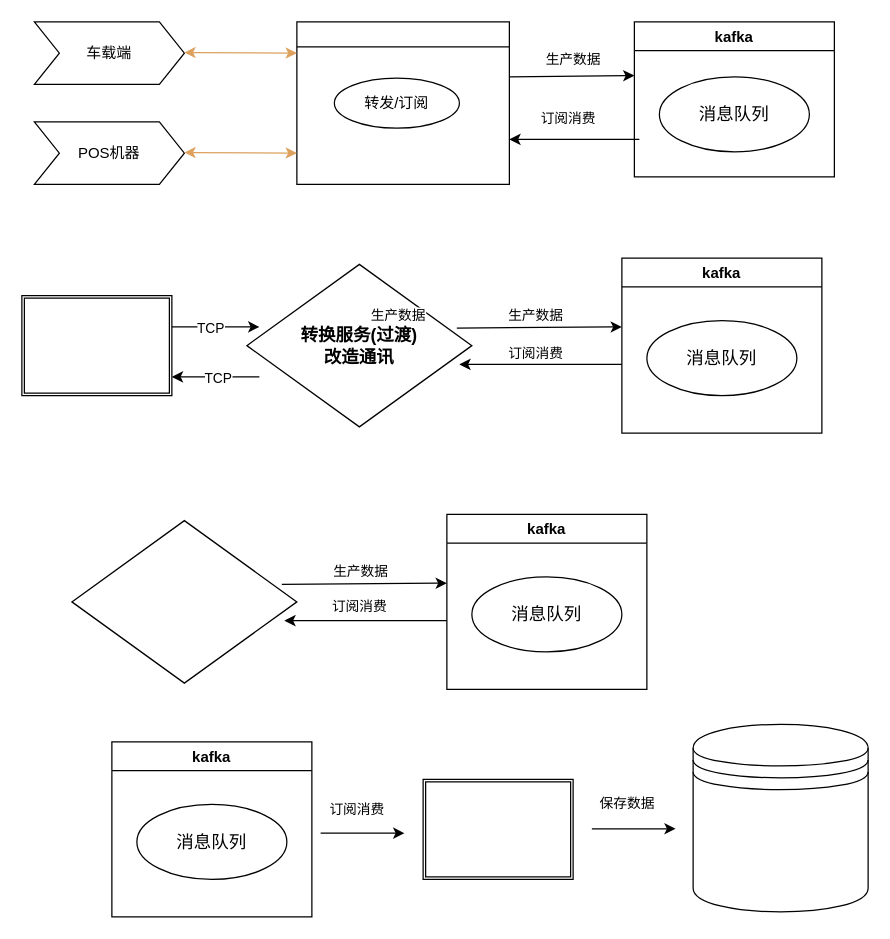
Image size: 890x939. Some labels were removed from this diagram. The shapes that lost their labels are listed below. From the top down, each one's box as (x1, y1, x2, y2) in pixels, then its label:
(296, 21, 509, 184): 网关服务
(21, 294, 172, 396): 其他服务
(71, 519, 297, 683): 调度业务
(422, 778, 573, 879): 数据存储
(692, 723, 868, 912): 数据库
